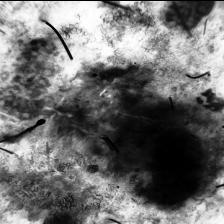Potentially Malignant Skin Tumors: (90, 62, 224, 208), (2, 40, 76, 122), (9, 174, 78, 224), (162, 0, 214, 38)
